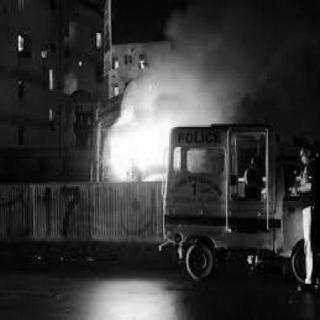Fire: (100, 82, 216, 182)
other: (16, 32, 24, 52), (47, 70, 53, 90), (138, 58, 146, 72), (95, 31, 101, 45), (113, 58, 119, 68), (41, 48, 45, 58)
